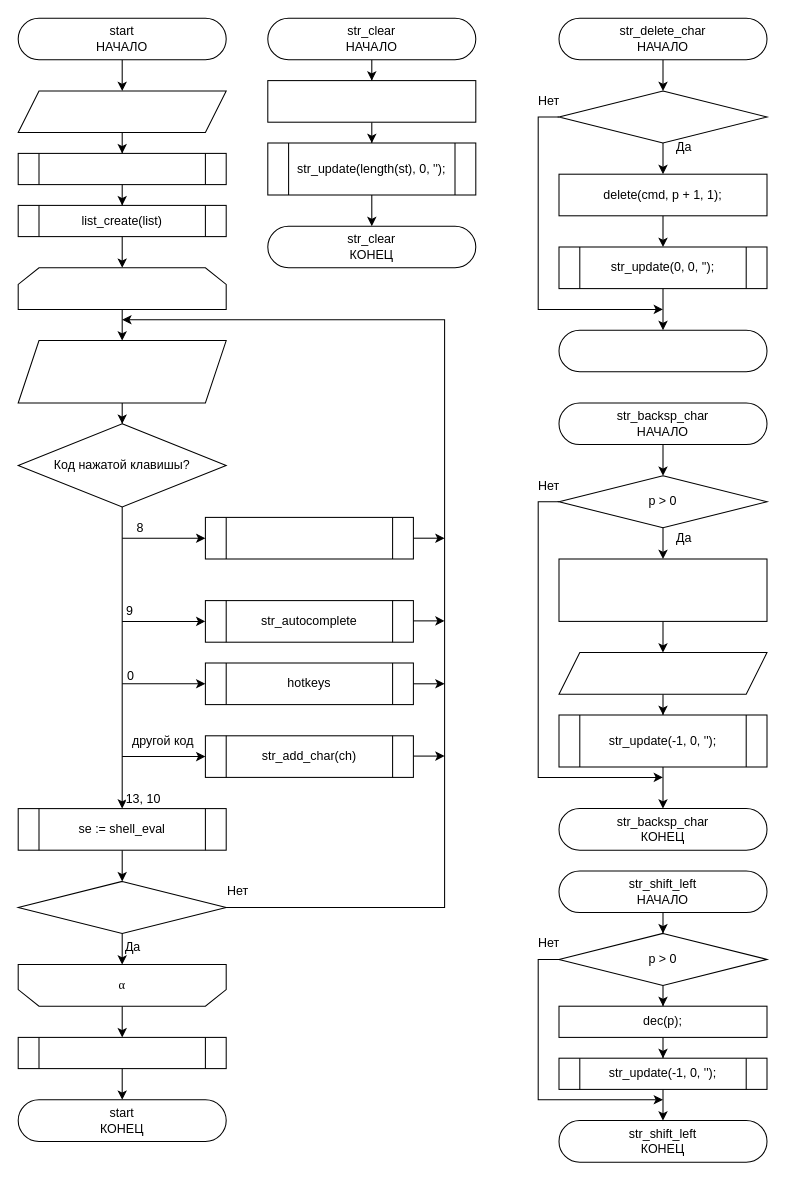
The diagram is 785 pixels wide and 1180 high, and some of its shapes have lost their labels. The box of each missing label's shape, as (x1, y1, x2, y2) in pixels:
cmd := ''; p := 0;: (267, 80, 476, 122)
delete(cmd, p, 1); dec(p);: (558, 558, 767, 621)
list_delete(list);: (17, 1036, 226, 1069)
p < length(cmd): (558, 90, 767, 143)
se = 0?: (17, 880, 226, 933)
str_backsp_char: (204, 516, 413, 559)
str_clear: (17, 152, 226, 185)
str_delete_char КОНЕЦ: (558, 329, 767, 372)
write(chr(8), ' ');: (558, 652, 767, 694)
α отправлена команда "exit": (17, 267, 226, 309)
Записать в code код нажатой клавиши: (17, 340, 226, 403)
Очистка окна: (17, 90, 226, 133)
